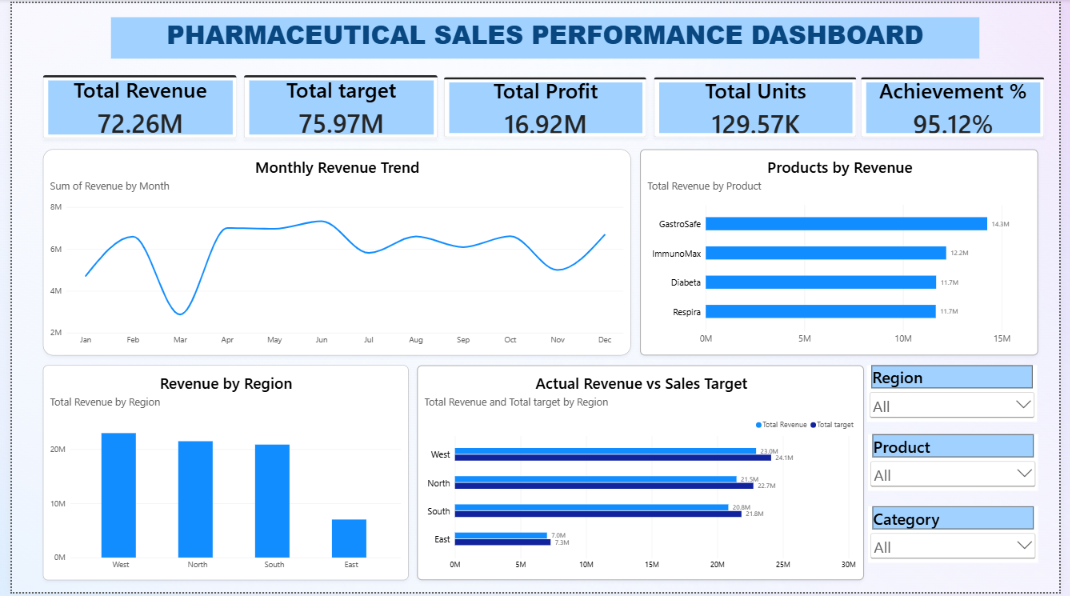

The dashboard page shown, as its layout file describes it:
{"tool":"powerbi","page":{"name":"Executive Overview","canvas":[1920,1080],"ordinal":0},"visuals":[{"type":"textbox","box":[10,0,280,280],"z":0},{"type":"textbox","title":"PHARMACEUTICAL SALES PERFORMANCE DASHBOARD","box":[181.6,25.7,1592.5,76],"z":1000},{"type":"cardVisual","fields":{"Data":["Sales_Data1.Total Revenue"]},"box":[56.7,131.7,355,116.7],"z":2000},{"type":"cardVisual","fields":{"Data":["Sales_Data1.Total Profit"]},"box":[791.7,135,371.7,110],"z":3000},{"type":"cardVisual","fields":{"Data":["Sales_Data1.Total Units"]},"box":[1178.3,135,371.7,110],"z":4000},{"type":"cardVisual","fields":{"Data":["Sales_Data1.Achievement %"]},"box":[1556.7,135,336.7,110],"z":5000},{"type":"lineChart","title":"Monthly Revenue Trend","fields":{"Category":["Sales_Data1.Month"],"Y":["Sum(Sales_Data1.Revenue)"]},"box":[56,268,1078,378],"z":6000},{"type":"clusteredColumnChart","title":"Revenue by Region","fields":{"Category":["Sales_Data1.Region"],"Y":["Sales_Data1.Total Revenue"]},"box":[56,664,670,394],"z":7000},{"type":"clusteredBarChart","title":"Products by Revenue","fields":{"Category":["Sales_Data1.Product"],"Y":["Sales_Data1.Total Revenue"]},"box":[1152,268,730,378],"z":8000},{"type":"clusteredBarChart","title":"Actual Revenue vs Sales Target","fields":{"Category":["Sales_Data1.Region"],"Y":["Sales_Data1.Total Revenue","Sales_Data1.Total target"]},"box":[742,664,820,394],"z":9000},{"type":"slicer","fields":{"Values":["Sales_Data1.Category"]},"box":[1570.7,922,312,104],"z":10000},{"type":"slicer","fields":{"Values":["Sales_Data1.Region"]},"box":[1568.3,663.4,312,104],"z":11000},{"type":"slicer","fields":{"Values":["Sales_Data1.Product"]},"box":[1570.7,790.2,312,104],"z":12000},{"type":"cardVisual","fields":{"Data":["Sales_Data1.Total target"]},"box":[425,131.7,355,116.7],"z":13000}]}

Visuals, with their boxes in screenshot pixels (x1, y1, x2, y2), scaled from the page's 1920x1080 canvas onto the 1070x596 screenshot:
textbox: detection(6, 0, 162, 155)
"PHARMACEUTICAL SALES PERFORMANCE DASHBOARD" textbox: detection(101, 14, 989, 56)
cardVisual - Sales_Data1.Total Revenue: detection(32, 73, 229, 137)
cardVisual - Sales_Data1.Total Profit: detection(441, 74, 648, 135)
cardVisual - Sales_Data1.Total Units: detection(657, 74, 864, 135)
cardVisual - Sales_Data1.Achievement %: detection(868, 74, 1055, 135)
"Monthly Revenue Trend" lineChart: detection(31, 148, 632, 356)
"Revenue by Region" clusteredColumnChart: detection(31, 366, 405, 584)
"Products by Revenue" clusteredBarChart: detection(642, 148, 1049, 356)
"Actual Revenue vs Sales Target" clusteredBarChart: detection(414, 366, 870, 584)
slicer - Sales_Data1.Category: detection(875, 509, 1049, 566)
slicer - Sales_Data1.Region: detection(874, 366, 1048, 423)
slicer - Sales_Data1.Product: detection(875, 436, 1049, 493)
cardVisual - Sales_Data1.Total target: detection(237, 73, 435, 137)
